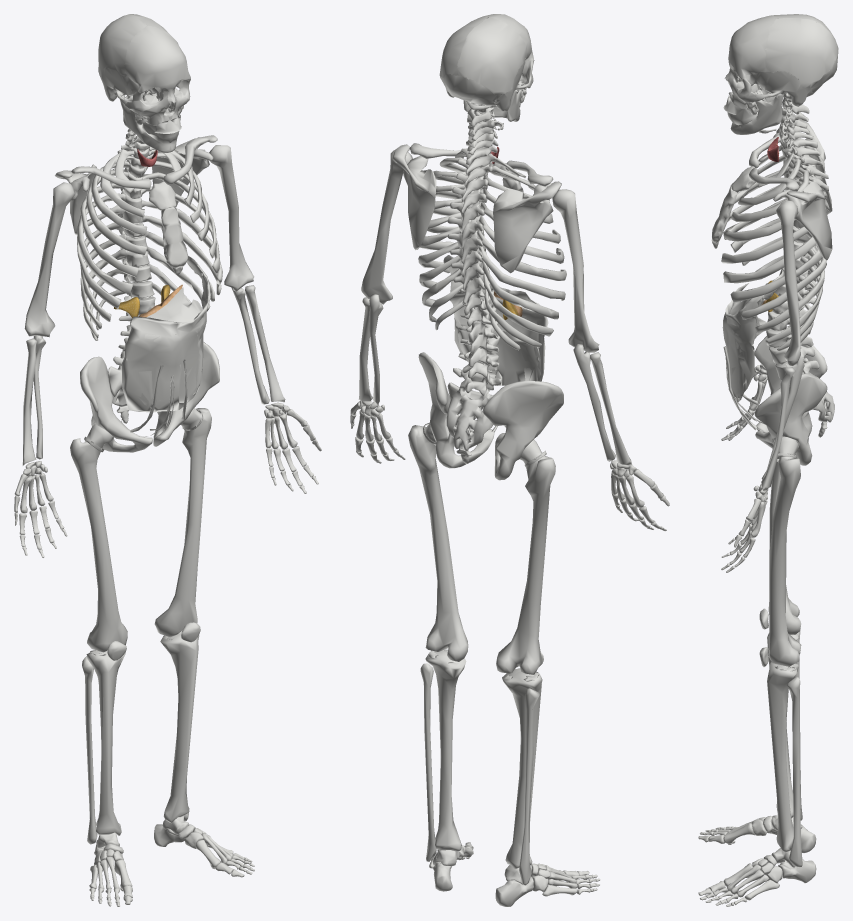
File: endo-map.glb
3 views of the same model, side by side, from view 1: azimuth 30°, elevation 25°; view 2: azimuth 150°, elevation 25°; view 3: azimuth 270°, elevation 25° (orthographic). The views are drawn at different scales.
Parts seen in each view (by area): view 1: Greater_omentum, Right_femur, Left_femur, Left_tibia, Frontal_bone, Right_tibia, Right_hip_bone__os_coxa_or_innominate_bone_, Right_humerus, Left_humerus, Right_parietal_bone, Left_hip_bone__os_coxa_or_innominate_bone_, Right_fibula (+18 smaller); view 2: Right_femur, Left_femur, Right_hip_bone__os_coxa_or_innominate_bone_, Right_parietal_bone, Greater_omentum, Right_scapula, Left_tibia, Right_tibia, Left_hip_bone__os_coxa_or_innominate_bone_, Right_humerus, Left_scapula, Left_humerus (+15 smaller); view 3: Left_femur, Left_parietal_bone, Left_tibia, Left_hip_bone__os_coxa_or_innominate_bone_, Greater_omentum, Left_humerus, Frontal_bone, Left_scapula, Left_fibula, Right_hip_bone__os_coxa_or_innominate_bone_, Left_temporal_bone, Mandible (+27 smaller).
Boxes of the visible parts, x1,y1,x2,y2 form: Greater_omentum: [122, 255, 210, 412]; Right_femur: [70, 424, 127, 652]; Left_femur: [154, 408, 211, 637]; Left_tibia: [160, 630, 199, 823]; Frontal_bone: [124, 25, 190, 92]; Right_tibia: [86, 650, 125, 835]; Right_hip_bone__os_coxa_or_innominate_bone_: [80, 356, 152, 452]; Right_humerus: [24, 182, 75, 337]; Left_humerus: [209, 145, 254, 291]; Right_parietal_bone: [98, 14, 146, 76]; Left_hip_bone__os_coxa_or_innominate_bone_: [153, 342, 219, 446]; Right_fibula: [82, 656, 97, 844]; Right_femur: [496, 439, 555, 674]; Left_femur: [408, 423, 468, 661]; Right_hip_bone__os_coxa_or_innominate_bone_: [482, 381, 563, 480]; Right_parietal_bone: [457, 17, 526, 94]; Greater_omentum: [443, 255, 548, 385]; Right_scapula: [493, 181, 561, 273]; Left_tibia: [425, 649, 466, 851]; Right_tibia: [502, 668, 542, 868]; Left_hip_bone__os_coxa_or_innominate_bone_: [418, 352, 494, 468]; Right_humerus: [552, 189, 599, 352]; Left_scapula: [392, 144, 436, 250]; Left_humerus: [361, 149, 412, 304]; Left_femur: [769, 436, 801, 666]; Left_parietal_bone: [765, 18, 837, 88]; Left_tibia: [767, 662, 798, 852]; Left_hip_bone__os_coxa_or_innominate_bone_: [754, 373, 827, 465]; Greater_omentum: [722, 269, 784, 402]; Left_humerus: [776, 200, 800, 365]; Frontal_bone: [728, 15, 776, 79]; Left_scapula: [773, 181, 832, 260]; Left_fibula: [786, 677, 802, 867]; Right_hip_bone__os_coxa_or_innominate_bone_: [754, 336, 827, 436]; Left_temporal_bone: [754, 71, 812, 106]; Mandible: [730, 92, 783, 134].
Bounding box in the file's own units: 0.6477 × 1.69 × 0.2531.
10 materials, 9 textured.
